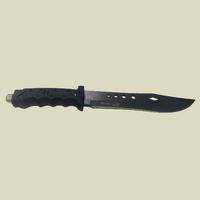knife: (4, 74, 198, 128)
